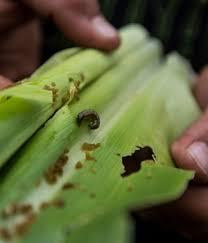fallarmy_worm: (68, 104, 104, 131)
